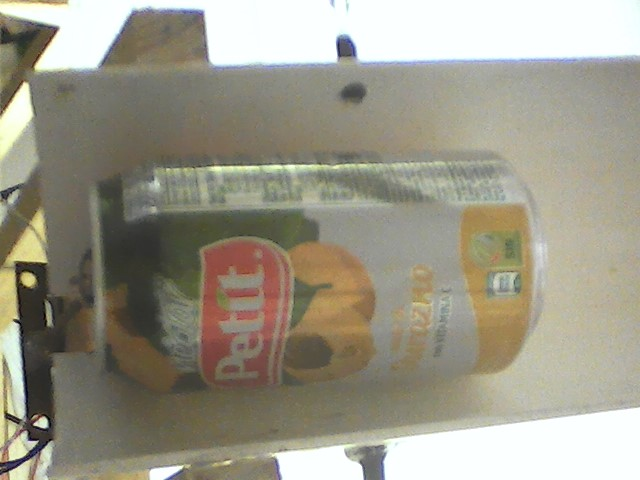lata: (87, 142, 555, 394)
